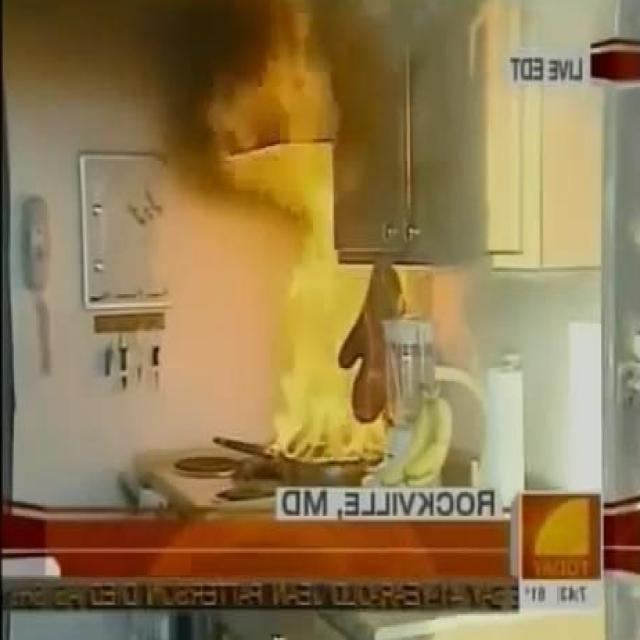smoke: (216, 0, 417, 462)
